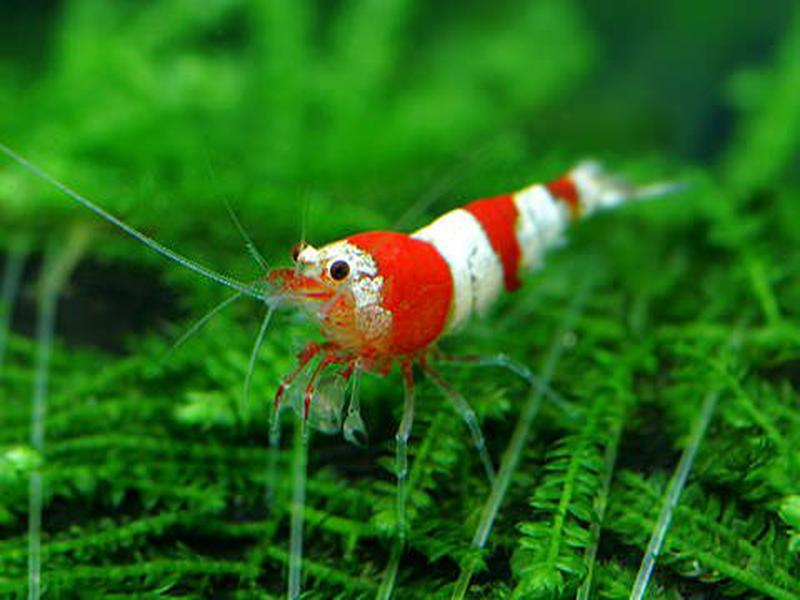shrimp: (261, 157, 636, 415)
